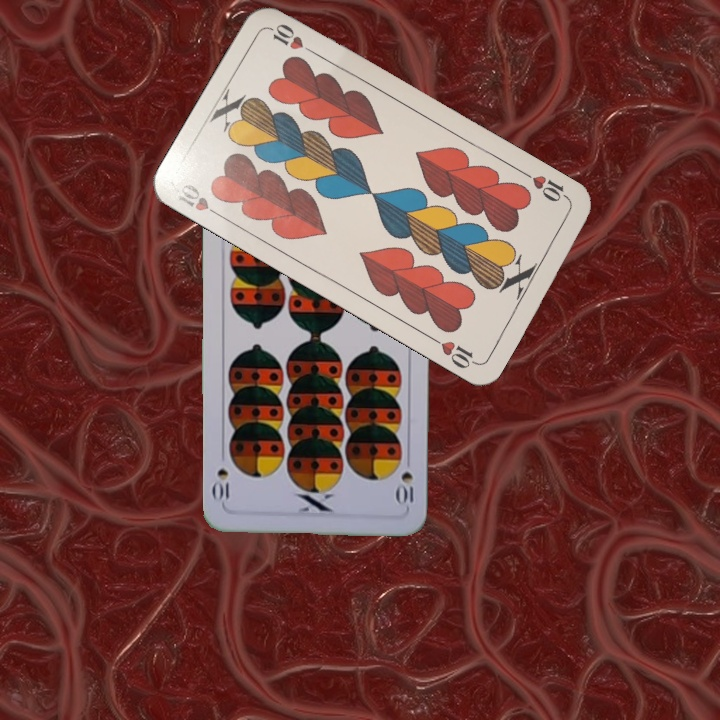H10: (174, 180, 227, 221), (519, 167, 573, 205)
S10: (394, 451, 417, 510)
